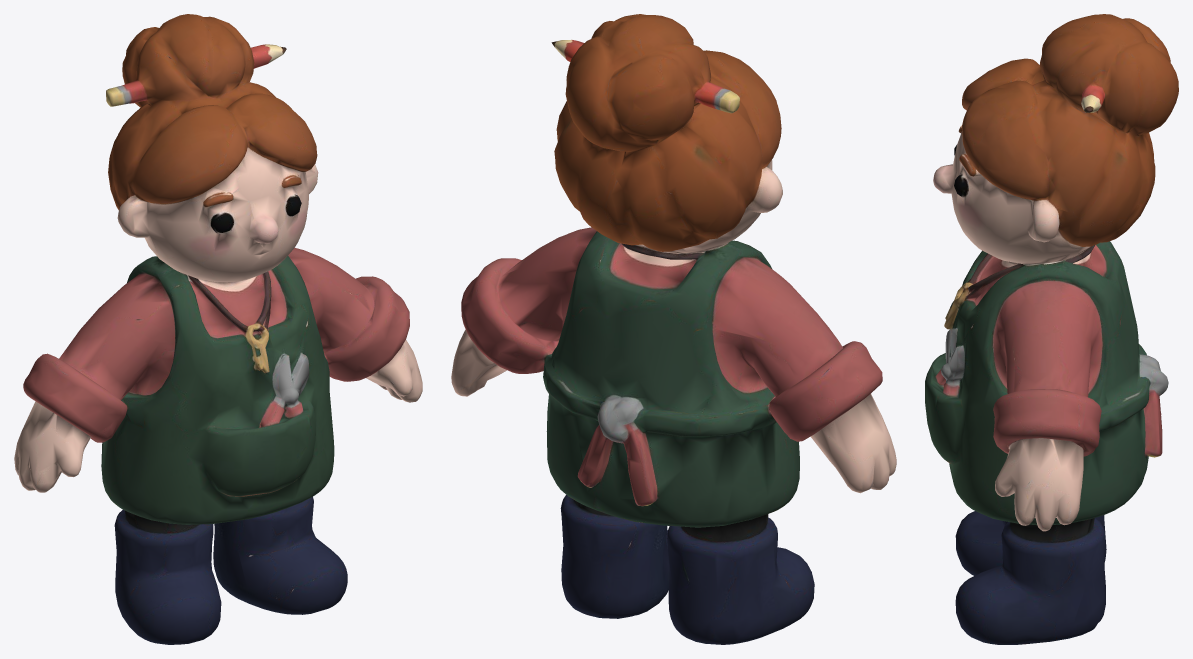
The model's file is rosa_v1.glb.
The picture shows the model from 3 angles, left to right: view 1: azimuth 30°, elevation 25°; view 2: azimuth 150°, elevation 25°; view 3: azimuth 270°, elevation 25°; orthographic projection. The views are drawn at different scales.
Bounding box in the file's own units: 1.39 × 1.9 × 0.7509.
1 material, 1 textured.
